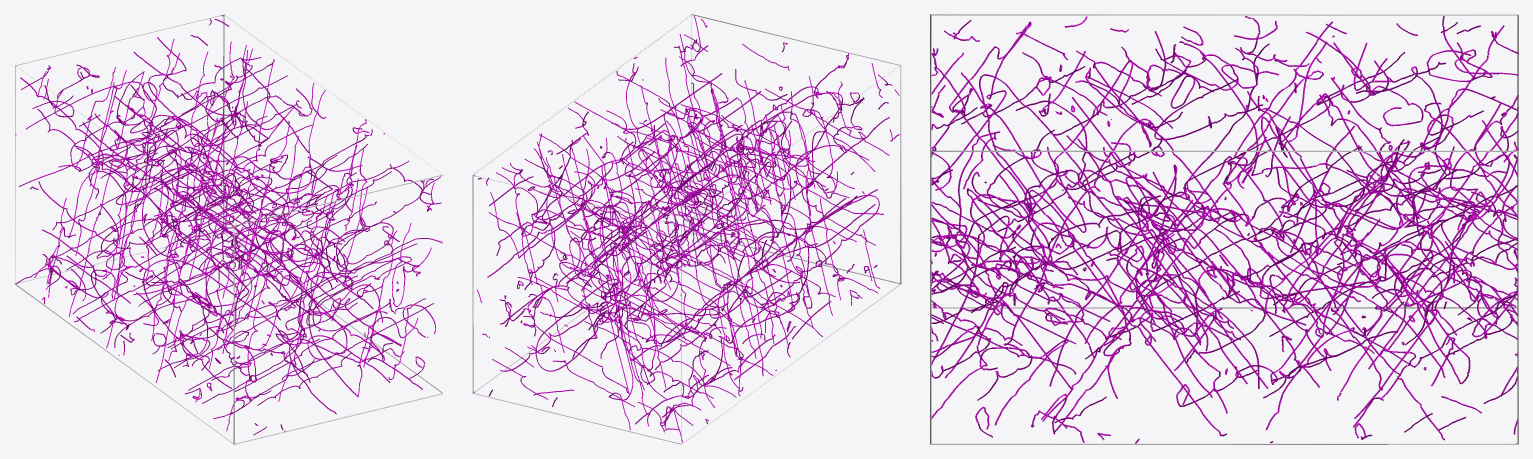
3 views of the same model, side by side, from view 1: azimuth 30°, elevation 25°; view 2: azimuth 150°, elevation 25°; view 3: azimuth 270°, elevation 25° (orthographic). The views are drawn at different scales.
Parts seen in each view (by area): view 1: Shape_IndexedLineSet.001, Shape_IndexedLineSet; view 2: Shape_IndexedLineSet.001, Shape_IndexedLineSet; view 3: Shape_IndexedLineSet.001, Shape_IndexedLineSet.
Part boxes in pixels (x1,y1,x2,y2): Shape_IndexedLineSet.001: (15,15,442,435); Shape_IndexedLineSet: (15,14,443,444); Shape_IndexedLineSet.001: (473,16,900,442); Shape_IndexedLineSet: (472,14,901,444); Shape_IndexedLineSet.001: (931,16,1518,443); Shape_IndexedLineSet: (930,14,1518,444).
Bounding box in the file's own units: 241 × 241 × 437.
